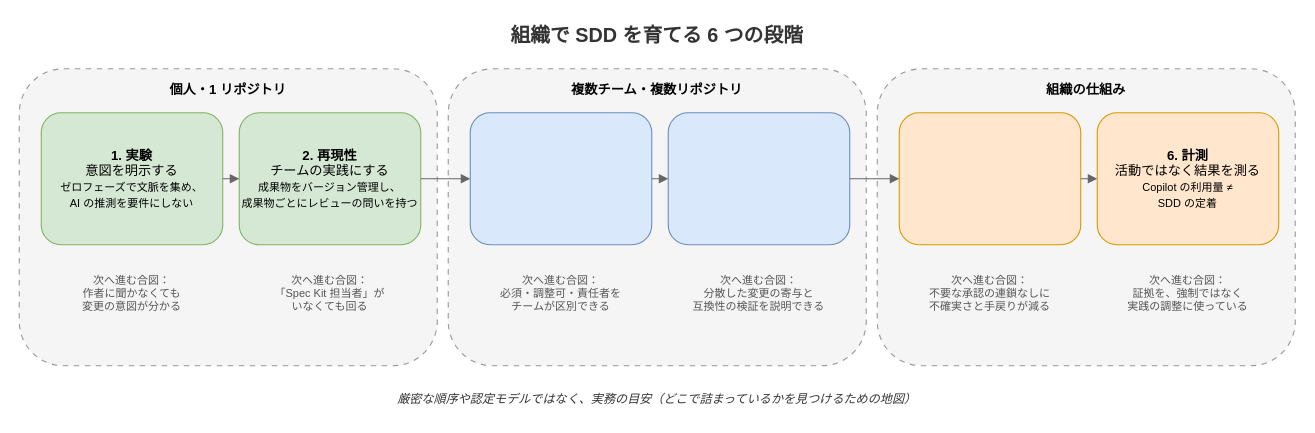
This 1315x433 diagram has some shape labels left out. The centre of each missing label's shape, as x and y in pixels:
"3. 一貫性 共通ルール＋現場の裁量 全社原則・技術標準・ ローカル判断の 3 層" belongs at (x=560, y=178).
"4. 協調 リポジトリの境界を越える アンカーリポジトリで ケイパビリティ全体を計画" belongs at (x=758, y=178).
"5. ガバナンス 開発フローに組み込む PR・Actions・CODEOWNERS。 検証と承認を分ける" belongs at (x=989, y=178).
